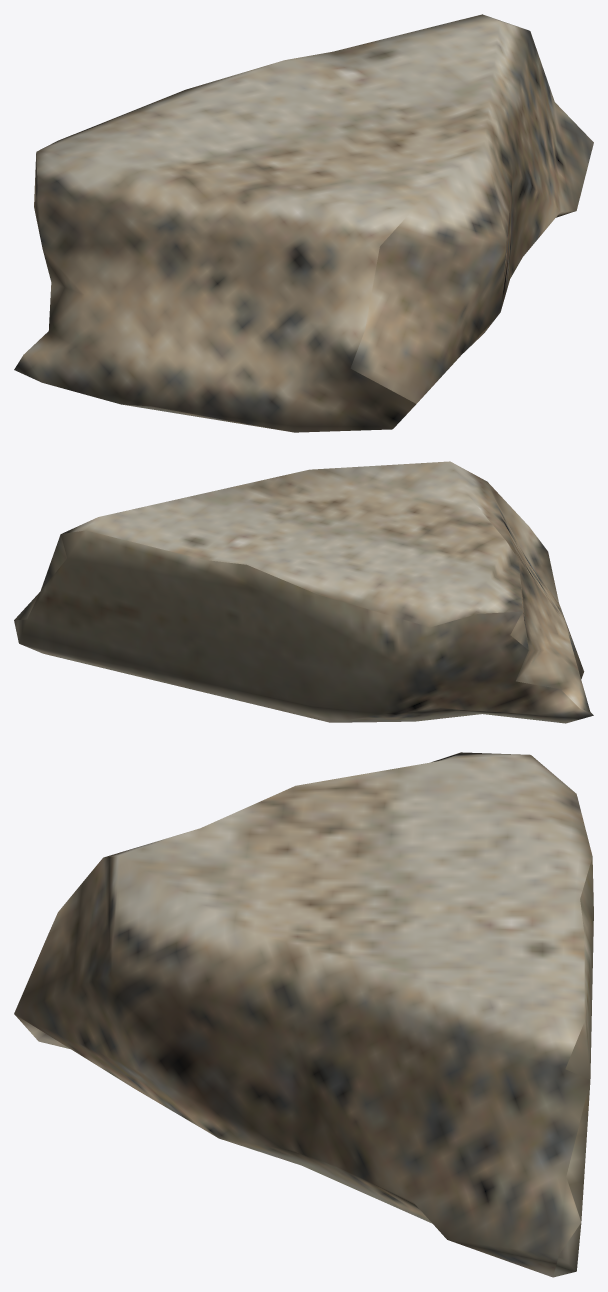
Rendered from Concrete_Rubble9.fbx.
3 views of the same model, one above another, from view 1: azimuth 30°, elevation 25°; view 2: azimuth 150°, elevation 25°; view 3: azimuth 270°, elevation 25° (orthographic). The views are drawn at different scales.
Parts seen in each view (by area): view 1: Concrete_Rubble9; view 2: Concrete_Rubble9; view 3: Concrete_Rubble9.
Boxes of the visible parts, x1,y1,x2,y2 form: Concrete_Rubble9: [14, 14, 593, 432]; Concrete_Rubble9: [14, 461, 593, 723]; Concrete_Rubble9: [14, 752, 593, 1277].
Size of the model in its own units: 8.75 by 2.45 by 5.6.
